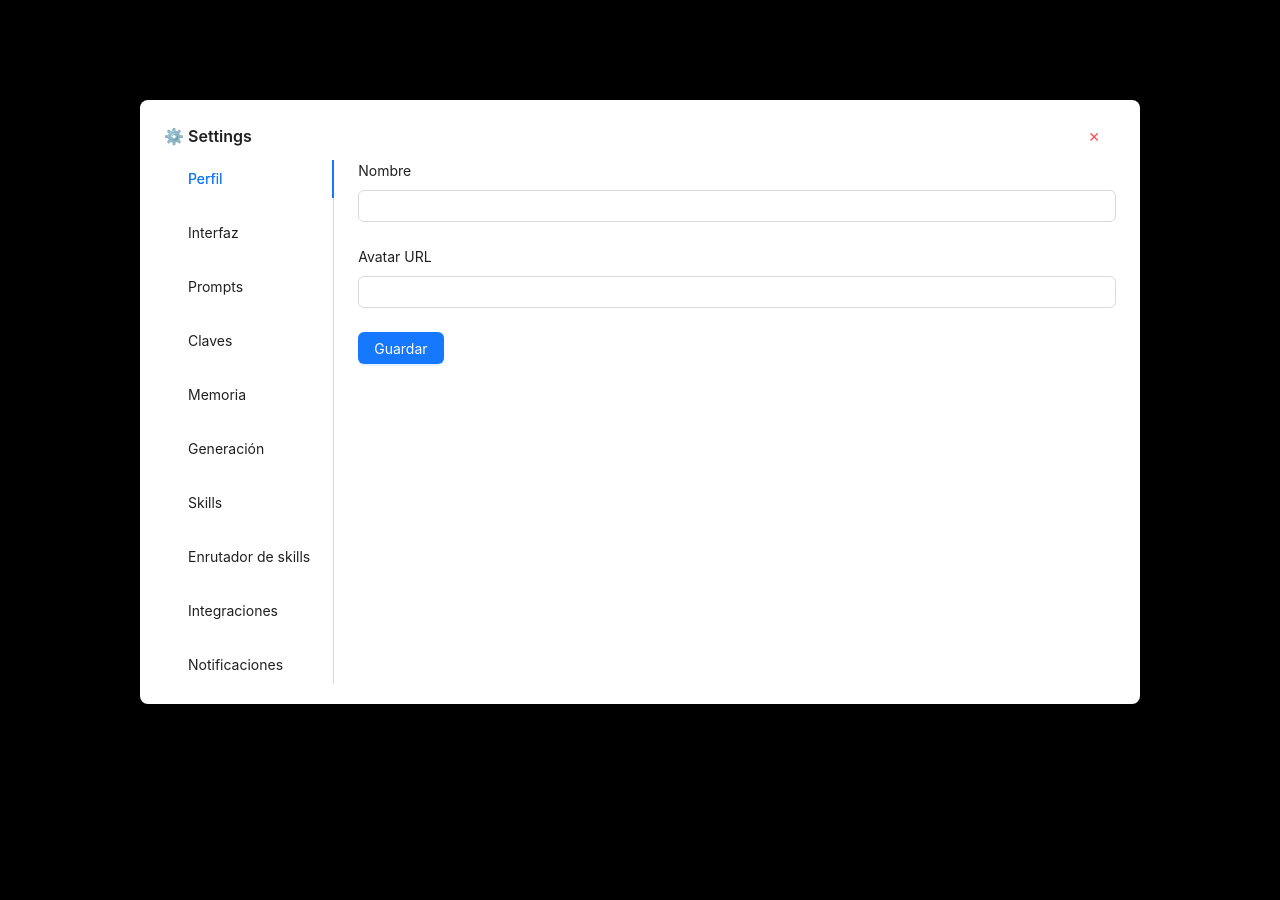
Test: SettingsDialog › renders Interfaz tab with font size, context window, and page size
Note: Click on Interfaz tab
Click the tab "Interfaz". click: (213, 233)
box: top-left (188, 222), bottom-right (239, 244)
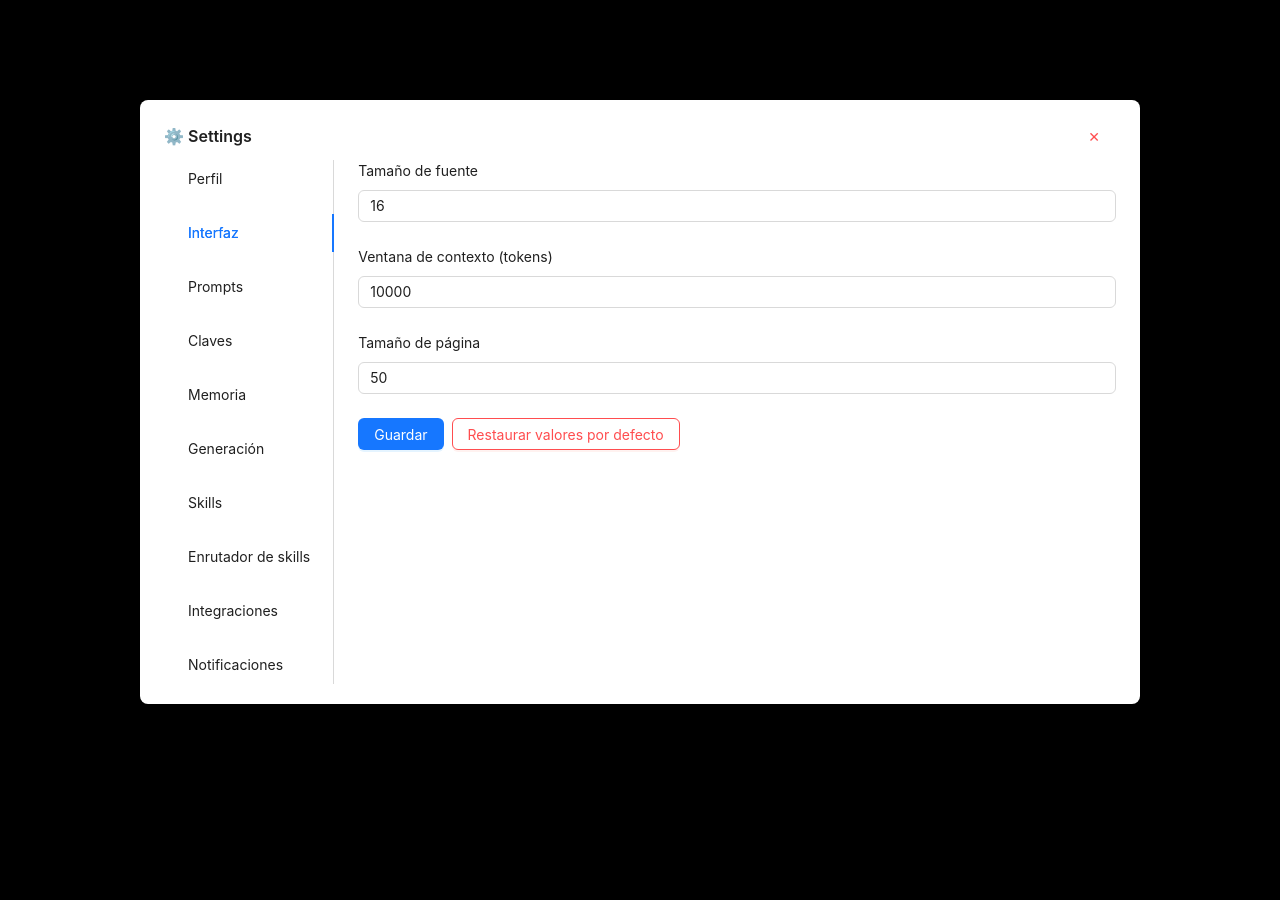
Check: the text "Tamaño de fuente" is shown, box top-left (358, 160), bottom-right (492, 182)
Check: the text "Ventana de contexto (tokens)" is shown, box top-left (358, 246), bottom-right (567, 268)
Check: the text "Tamaño de página" is shown, box top-left (358, 332), bottom-right (494, 354)
